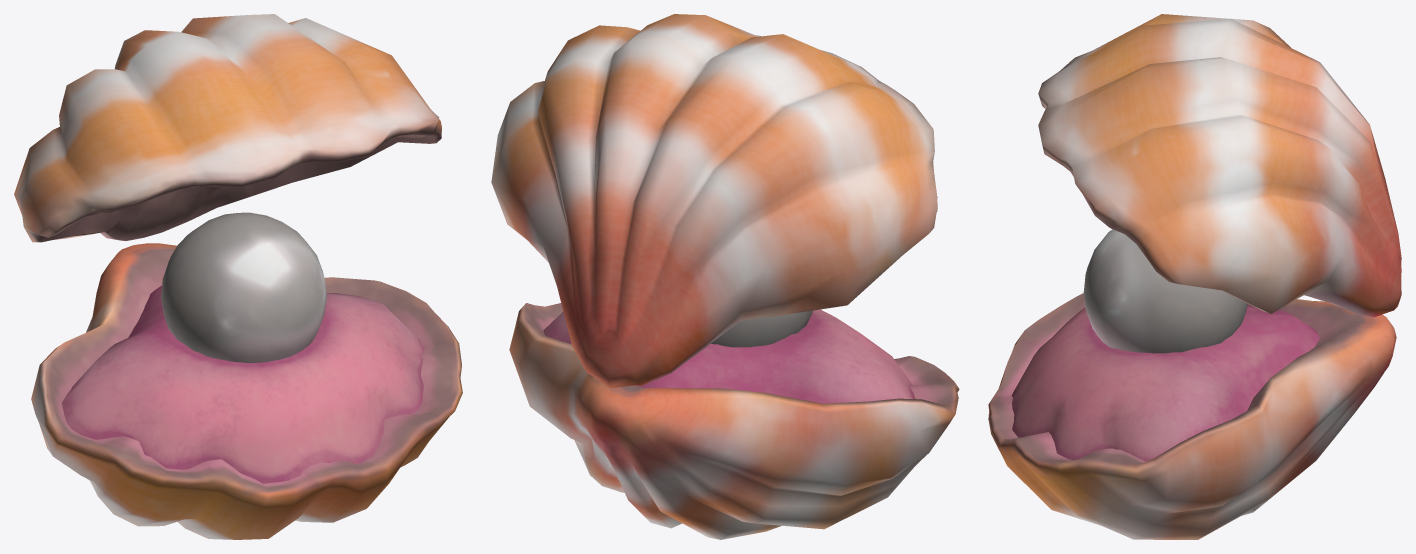
Rendered from Sea shell.fbx.
The picture shows the model from 3 angles, left to right: view 1: azimuth 30°, elevation 25°; view 2: azimuth 150°, elevation 25°; view 3: azimuth 270°, elevation 25°; orthographic projection. The views are drawn at different scales.
Parts seen in each view (by area): view 1: Superior_low, FleshyThing_low, Inferior_low, Pearl_low; view 2: Superior_low, Inferior_low, FleshyThing_low, Pearl_low; view 3: Superior_low, Inferior_low, FleshyThing_low, Pearl_low.
Part boxes in pixels (box(x1,y1,x2,y2)): Superior_low: box(14, 14, 441, 242); FleshyThing_low: box(62, 285, 423, 483); Inferior_low: box(31, 243, 462, 539); Pearl_low: box(161, 212, 326, 362); Superior_low: box(491, 14, 937, 388); Inferior_low: box(509, 303, 959, 539); FleshyThing_low: box(543, 309, 915, 403); Pearl_low: box(711, 310, 812, 347); Superior_low: box(1038, 14, 1401, 317); Inferior_low: box(988, 293, 1396, 539); FleshyThing_low: box(1011, 305, 1320, 461); Pearl_low: box(1083, 229, 1247, 353).
Bounding box in the file's own units: 2325 × 2597 × 2077.
1 material, 1 textured.
